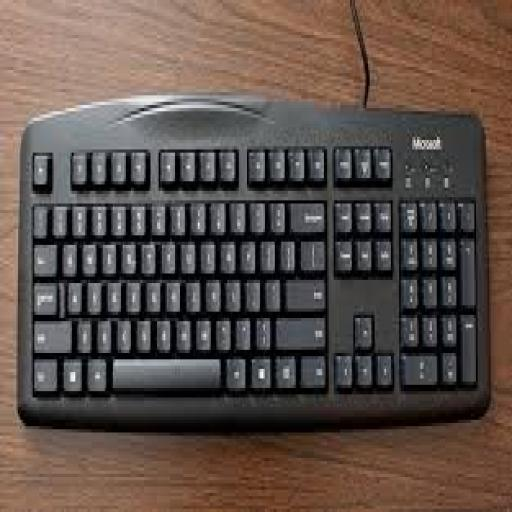keyboard: (16, 92, 489, 423)
